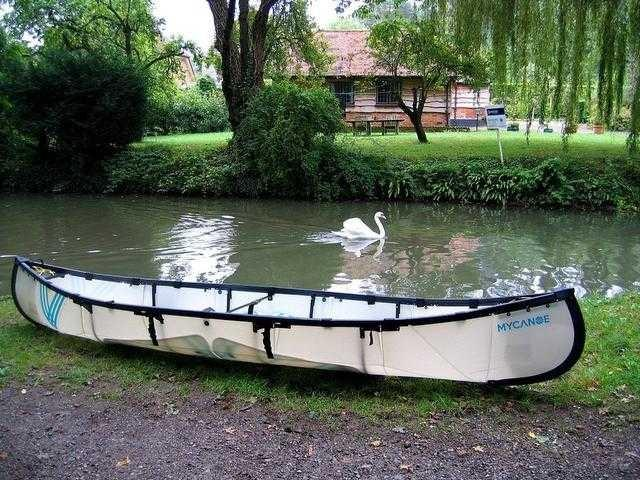kayak: (5, 261, 595, 387)
